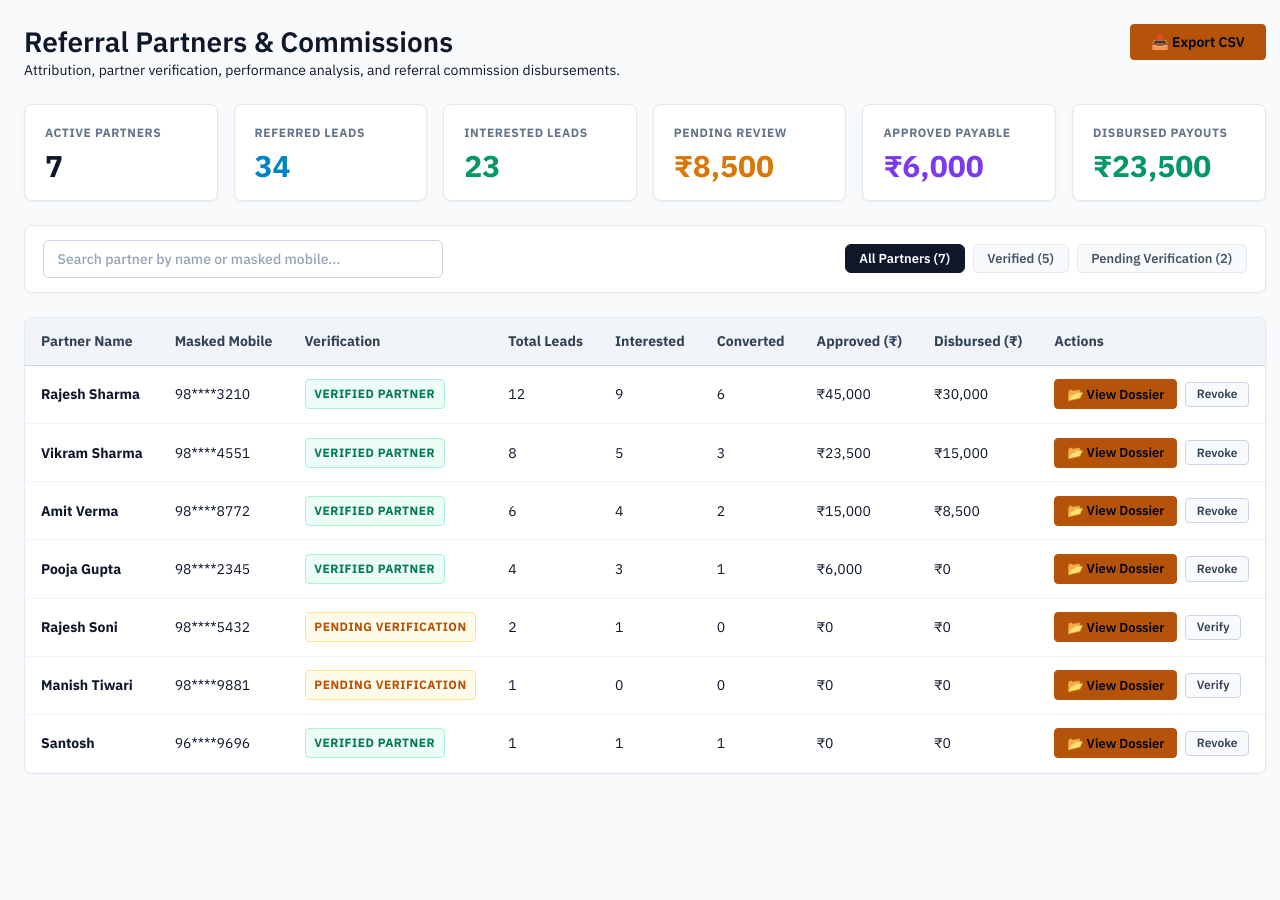
Test: DSA OS Phase 1 Rebuild Test Suite › Workflow D: Referral Partners & Analysis › opens partner dossier drawer on clicking View Dossier
Expected: the text "Vikram Sharma" is shown, 41,444 -> 143,462
Click the button "📂 View Dossier" in the row of "Rajesh Sharma" at (1116, 394), box 1054,379 -> 1178,409
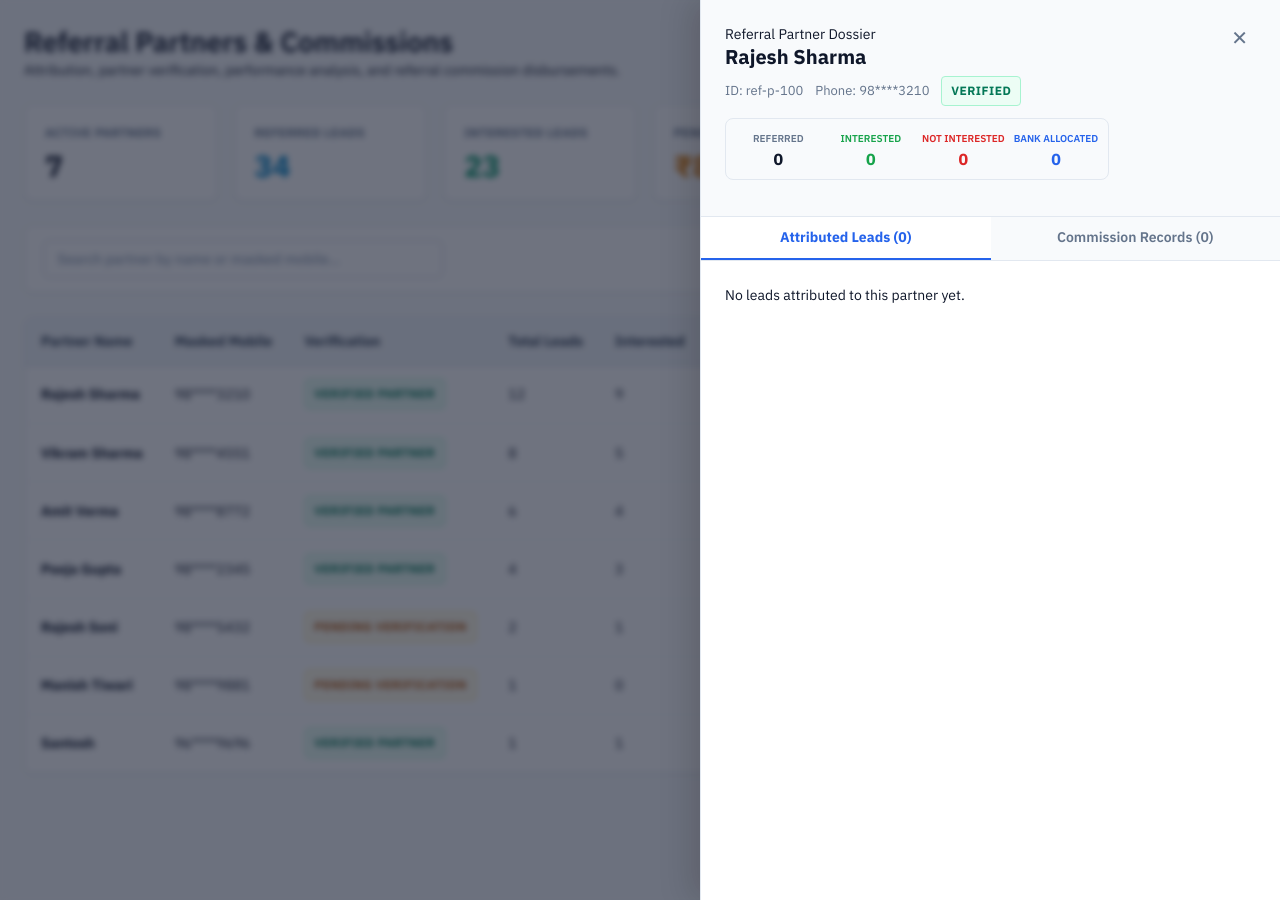
Expected: the text "Referral Partner Dossier" is shown, 725,25 -> 876,43
